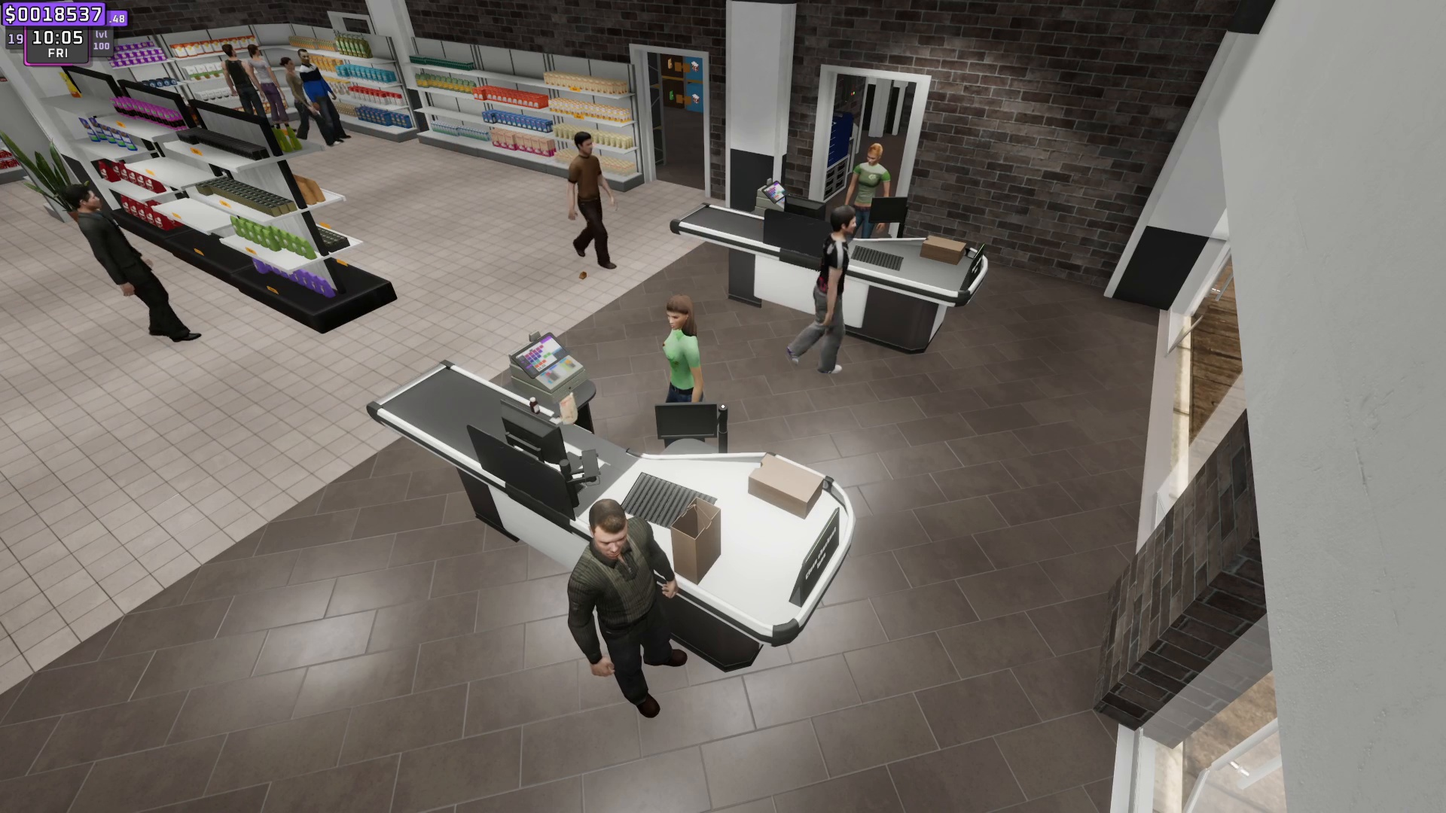Client: (582, 511, 690, 710), (568, 133, 621, 265), (823, 207, 862, 373)
Employee: (665, 304, 702, 401), (854, 136, 888, 231)
